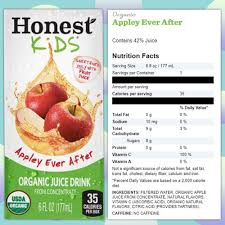Juice_Box: (4, 4, 106, 220)
